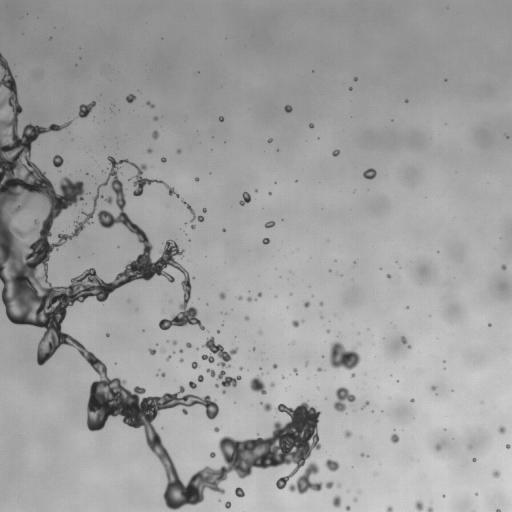droplet: (201, 337, 241, 387), (328, 341, 360, 369), (333, 387, 355, 412), (249, 375, 266, 394), (78, 101, 95, 117), (325, 458, 339, 471), (363, 168, 376, 179), (239, 192, 250, 205), (53, 155, 63, 167), (332, 495, 341, 507), (390, 433, 399, 443), (235, 487, 244, 497), (261, 403, 272, 411), (415, 501, 423, 511), (264, 221, 275, 228), (126, 94, 135, 102), (152, 130, 159, 139), (146, 101, 154, 108), (284, 105, 292, 112), (292, 320, 300, 327), (148, 348, 156, 355), (191, 361, 198, 369), (492, 470, 500, 477), (325, 481, 333, 488), (332, 149, 339, 156), (189, 381, 196, 388), (498, 426, 505, 433), (344, 430, 351, 437), (17, 230, 25, 236), (401, 336, 407, 344), (262, 238, 269, 244), (219, 292, 225, 299), (197, 375, 203, 382), (304, 301, 310, 307), (435, 444, 441, 450), (225, 501, 230, 508), (386, 506, 393, 511), (427, 506, 433, 511), (309, 123, 314, 128), (161, 157, 166, 162), (501, 264, 506, 269), (186, 342, 191, 347), (210, 452, 215, 457), (317, 367, 323, 371), (430, 386, 436, 390), (219, 116, 223, 121), (176, 149, 181, 153), (191, 224, 195, 229), (293, 368, 297, 373), (161, 372, 165, 377), (270, 382, 274, 387), (214, 427, 219, 431), (345, 506, 350, 510), (153, 116, 157, 120), (268, 138, 272, 142), (147, 149, 151, 153), (195, 177, 199, 181), (202, 208, 206, 212), (386, 274, 390, 278), (257, 293, 261, 297), (247, 297, 251, 301), (172, 341, 176, 345), (161, 348, 165, 352), (166, 356, 170, 360), (273, 364, 277, 368), (351, 373, 355, 377), (506, 444, 510, 448), (361, 453, 366, 456), (305, 361, 308, 365), (411, 398, 414, 402), (354, 77, 357, 80), (245, 316, 248, 319), (326, 329, 329, 332), (179, 350, 182, 353), (180, 359, 183, 362), (239, 366, 242, 369), (215, 384, 218, 387), (222, 390, 225, 393), (353, 498, 356, 501), (239, 296, 241, 300), (496, 509, 500, 511), (349, 87, 351, 90), (320, 302, 322, 305), (406, 306, 409, 308), (217, 330, 219, 333), (106, 334, 109, 336), (408, 345, 410, 348), (473, 458, 475, 461), (442, 495, 445, 497), (282, 376, 284, 378), (475, 493, 477, 495)
ligament: (0, 53, 319, 509), (182, 199, 204, 222), (363, 401, 368, 407)
